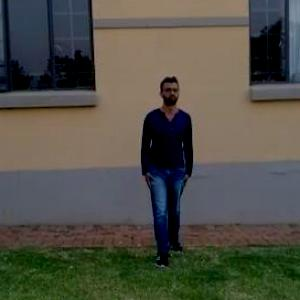follow: (132, 62, 204, 287)
